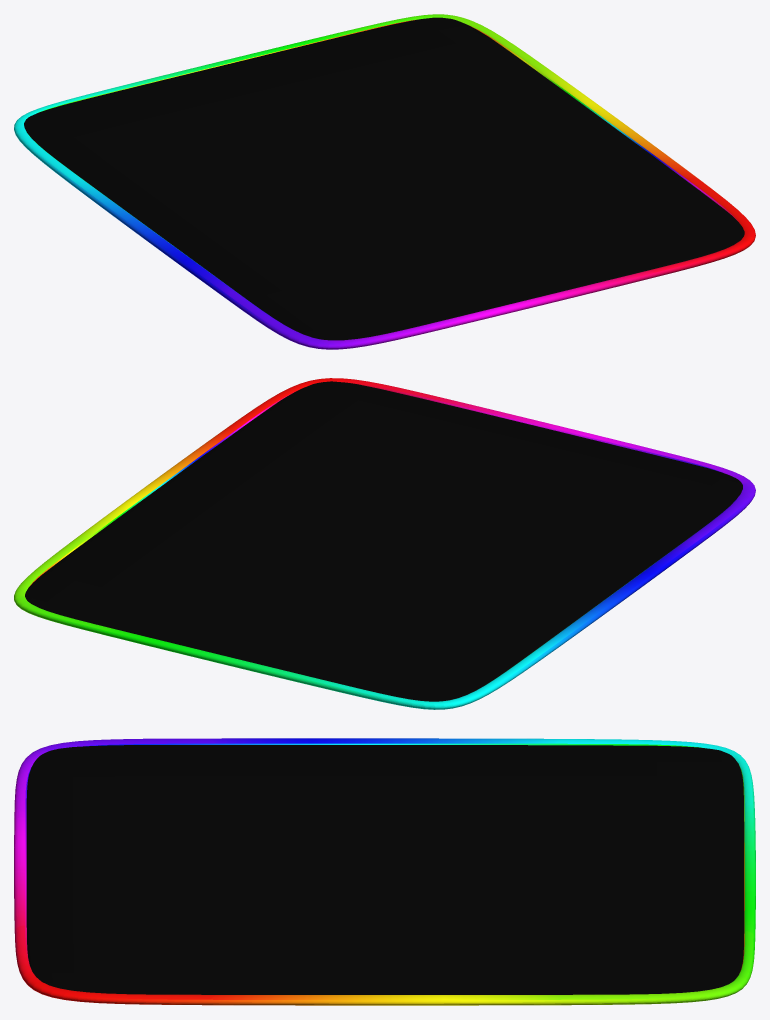
The model's file is medium rgb mousepad - 12.5Dx14.9W.glb.
The picture shows the model from 3 angles, top to bottom: view 1: azimuth 30°, elevation 25°; view 2: azimuth 150°, elevation 25°; view 3: azimuth 270°, elevation 25°; orthographic projection. The views are drawn at different scales.
Visible parts, largest first — view 1: Cube; view 2: Cube; view 3: Cube.
Boxes of the visible parts, x1,y1,x2,y2 form: Cube: (14, 14, 755, 349); Cube: (14, 378, 755, 709); Cube: (14, 738, 755, 1005).
Bounding box in the file's own units: 12.51 × 0.187 × 14.87.
Materials: 2 (1 with a texture image).
